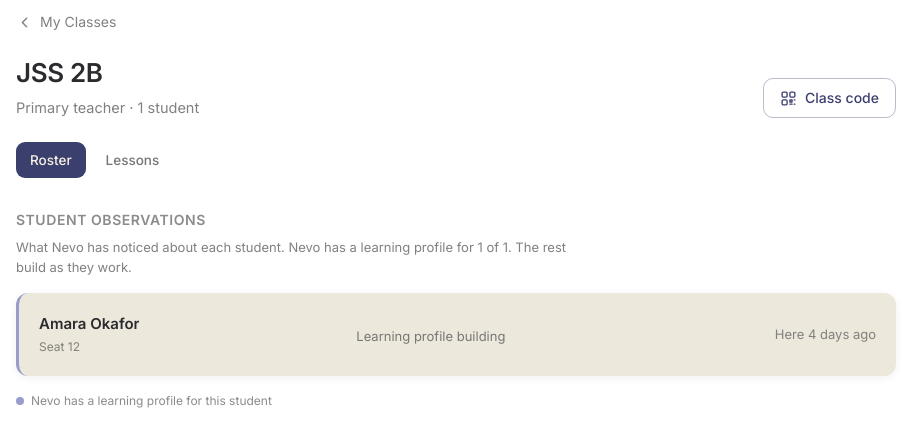
Scenario: the Lessons tab › distinguishes an empty class from a failed read
Click the tab "lessons". click: (132, 160)
box: 92,142 -> 173,178
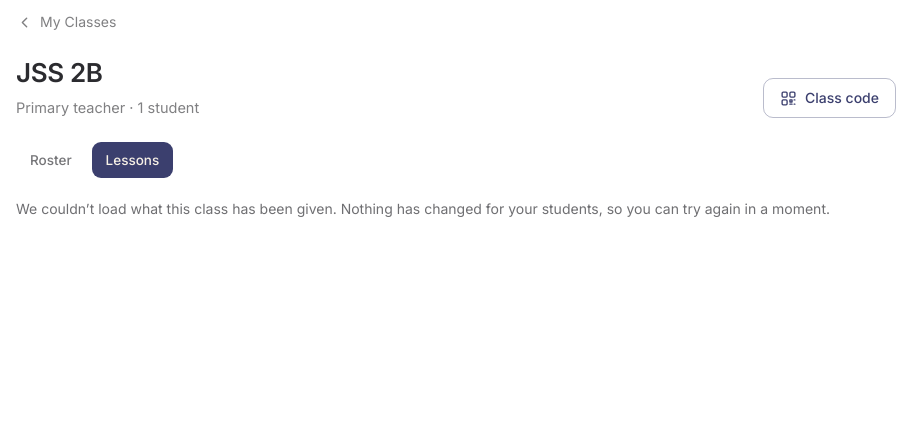
expect the text "couldn’t load what this class" is shown: met, box 16,200 -> 830,217
